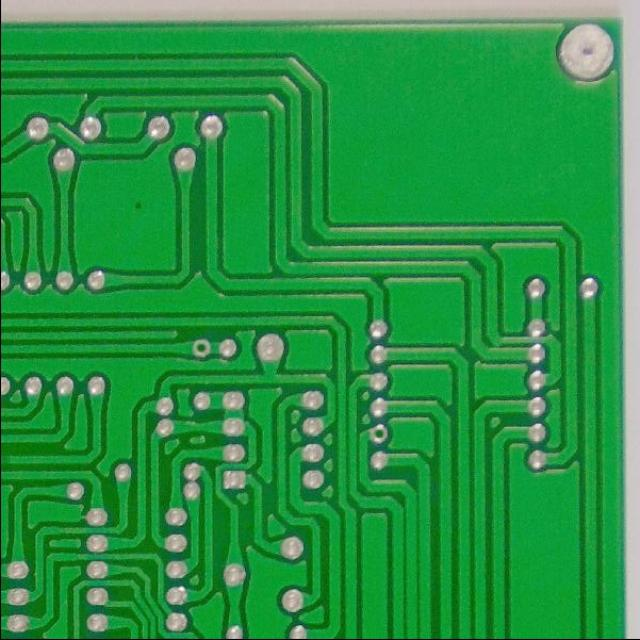missing_hole: (191, 334, 213, 362), (366, 425, 389, 444)
